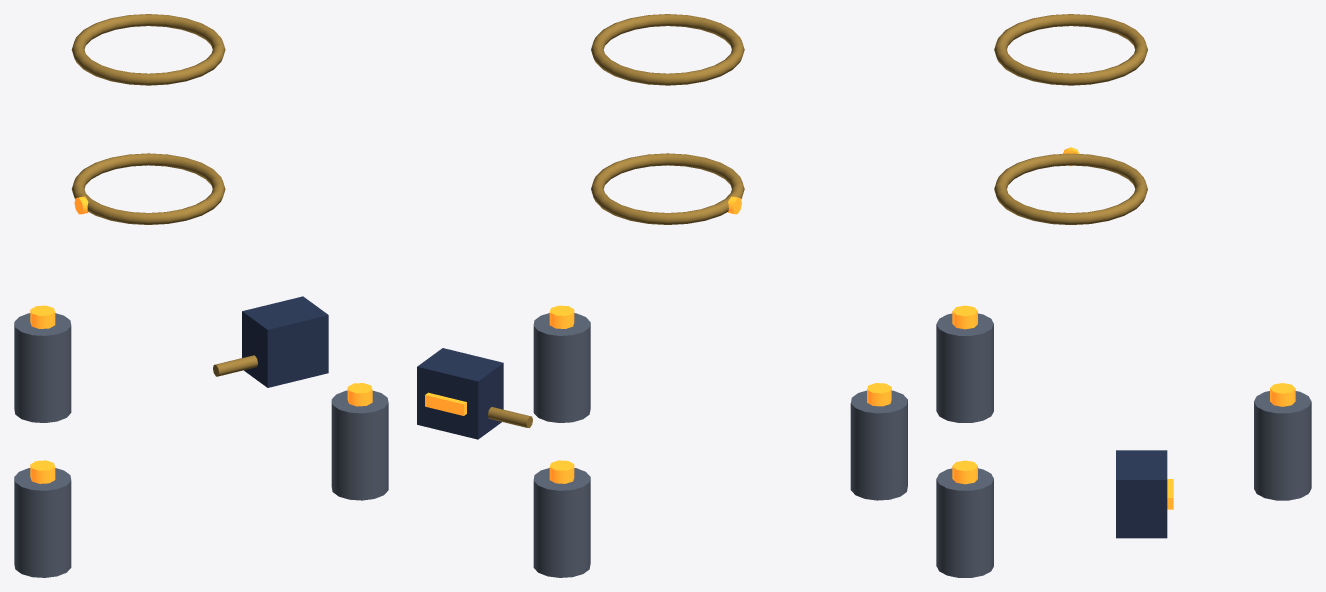
The model's file is tower_overclock_potency_s4.glb.
The picture shows the model from 3 angles, left to right: view 1: azimuth 30°, elevation 25°; view 2: azimuth 150°, elevation 25°; view 3: azimuth 270°, elevation 25°; orthographic projection.
Visible parts, largest first — view 1: overclock_trap_coupler, overclock_cap2, overclock_cap1, overclock_cap0, overclock_conductor1.98, overclock_conductor1.5, overclock_trap_coupler_pipe, overclock_cap_top2, overclock_cap_top0, overclock_cap_top1; view 2: overclock_trap_coupler, overclock_cap0, overclock_cap2, overclock_cap1, overclock_conductor1.98, overclock_conductor1.5, overclock_trap_coupler_face; view 3: overclock_cap0, overclock_cap1, overclock_cap2, overclock_trap_coupler, overclock_conductor1.98, overclock_conductor1.5, overclock_cap_top0, overclock_cap_top1, overclock_cap_top2.
Part boxes in pixels (x1,y1,x2,y2): overclock_trap_coupler: (242, 296, 328, 387); overclock_cap2: (14, 468, 71, 577); overclock_cap1: (331, 390, 388, 500); overclock_cap0: (14, 313, 71, 422); overclock_conductor1.98: (71, 14, 225, 85); overclock_conductor1.5: (71, 153, 225, 224); overclock_trap_coupler_pipe: (213, 355, 257, 376); overclock_cap_top2: (30, 460, 55, 483); overclock_cap_top0: (30, 305, 55, 328); overclock_cap_top1: (347, 383, 372, 406); overclock_trap_coupler: (417, 348, 503, 439); overclock_cap0: (533, 468, 590, 577); overclock_cap2: (850, 390, 907, 500); overclock_cap1: (533, 313, 590, 422); overclock_conductor1.98: (591, 14, 744, 85); overclock_conductor1.5: (591, 153, 744, 224); overclock_trap_coupler_face: (425, 392, 466, 415); overclock_cap0: (1254, 391, 1311, 500); overclock_cap1: (936, 468, 993, 577); overclock_cap2: (936, 313, 993, 422); overclock_trap_coupler: (1116, 450, 1167, 538); overclock_conductor1.98: (994, 14, 1147, 85); overclock_conductor1.5: (994, 153, 1147, 224); overclock_cap_top0: (1270, 383, 1295, 406); overclock_cap_top1: (952, 460, 977, 484); overclock_cap_top2: (952, 305, 977, 329).
Size of the model in its own units: 1.39 by 1.53 by 1.17.
